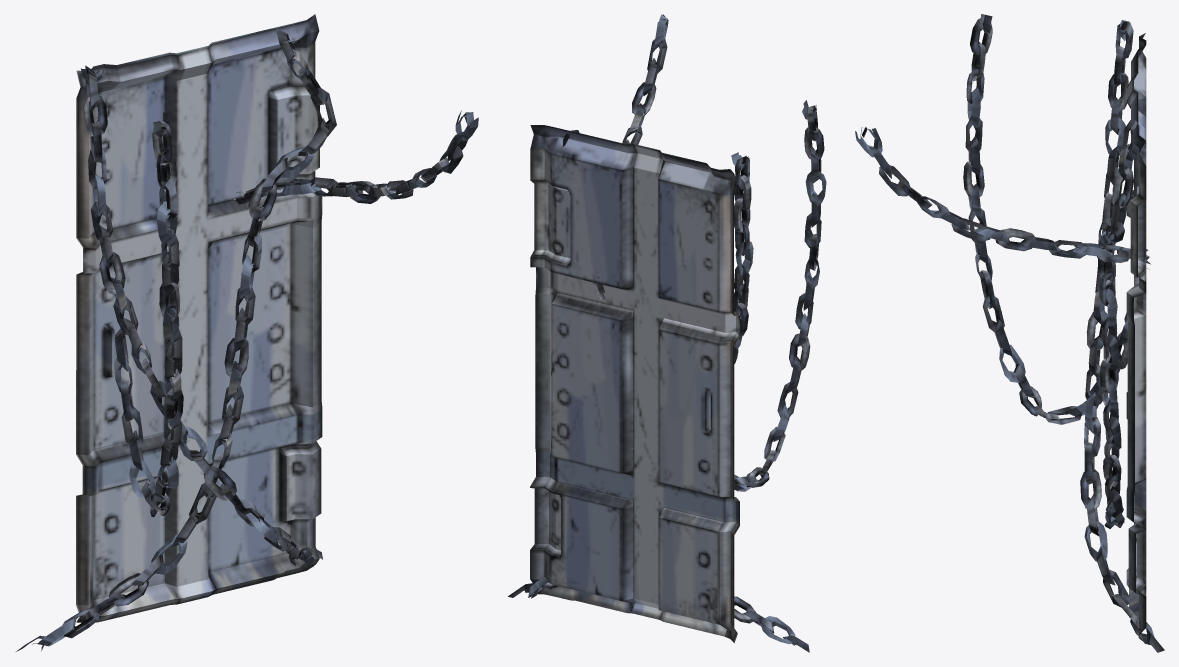
The model's file is MetalDoor.fbx.
3 views of the same model, side by side, from view 1: azimuth 30°, elevation 25°; view 2: azimuth 150°, elevation 25°; view 3: azimuth 270°, elevation 25° (orthographic). The views are drawn at different scales.
Parts seen in each view (by area): view 1: MetalDoor; view 2: MetalDoor; view 3: MetalDoor.
Part boxes in pixels (x1,y1,x2,y2): MetalDoor: [16, 14, 478, 651]; MetalDoor: [508, 14, 826, 652]; MetalDoor: [855, 14, 1164, 652].
Size of the model in its own units: 113 by 188 by 100.
